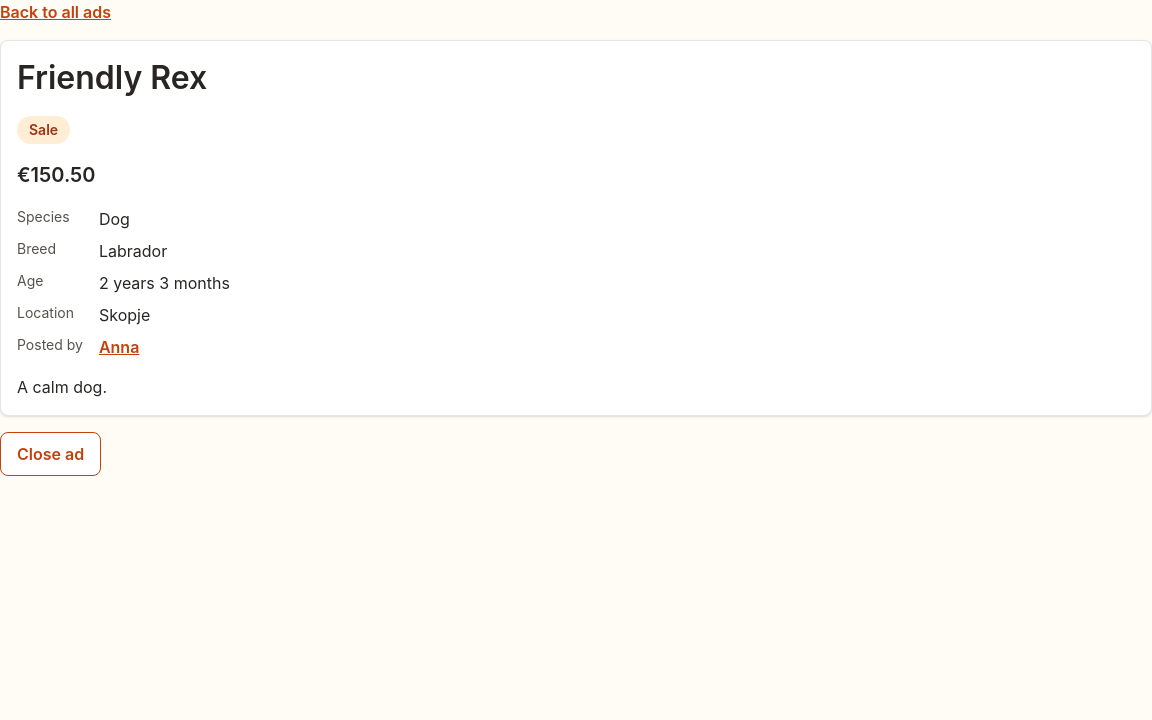
PetAdDetailsPage close ad › opens the home page with the closed notice after a successful close
Click the button "Close ad".
click(51, 454)  # box [0,432,101,476]
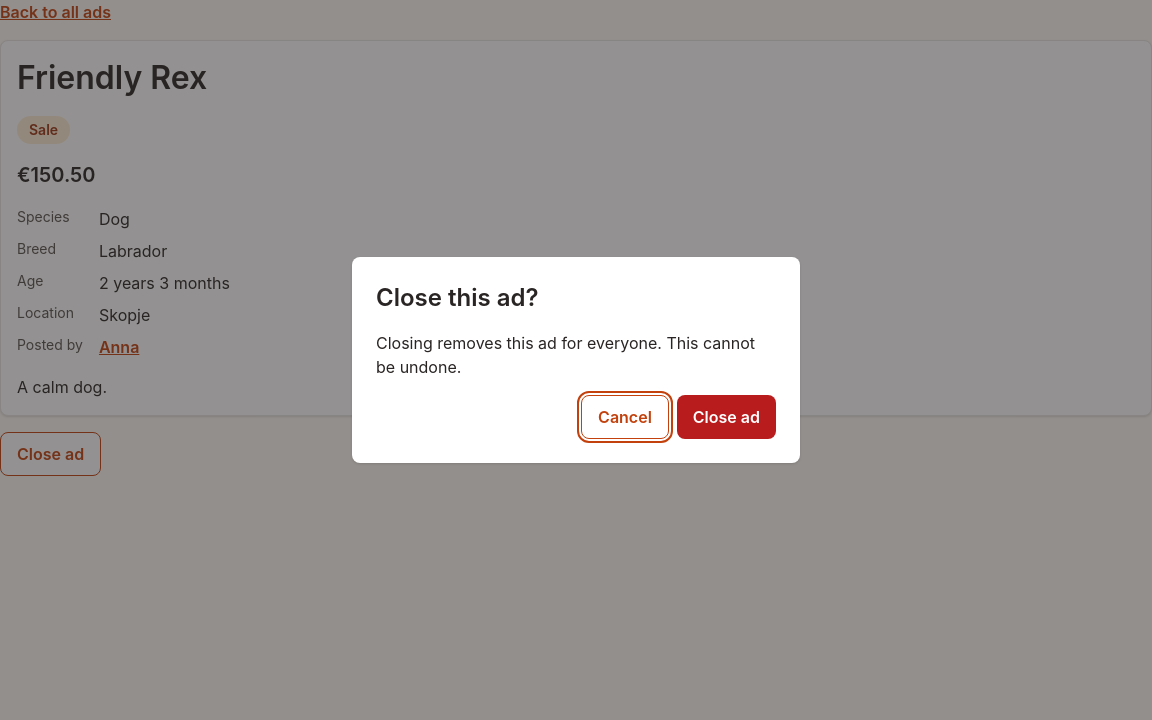
Click the button "Close ad".
click(726, 417)  # box [677,395,776,439]
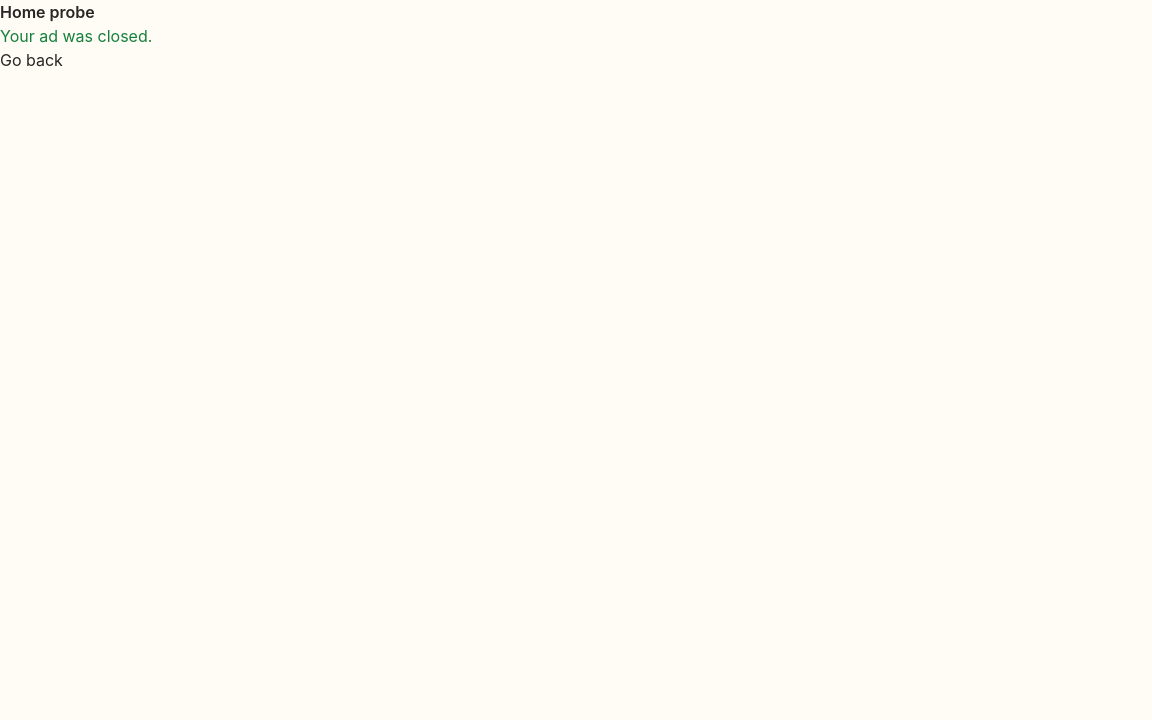
Result: the heading "Home probe" is shown at [0,2,95,22]
Result: the text "Your ad was closed." is shown at [0,26,152,46]
